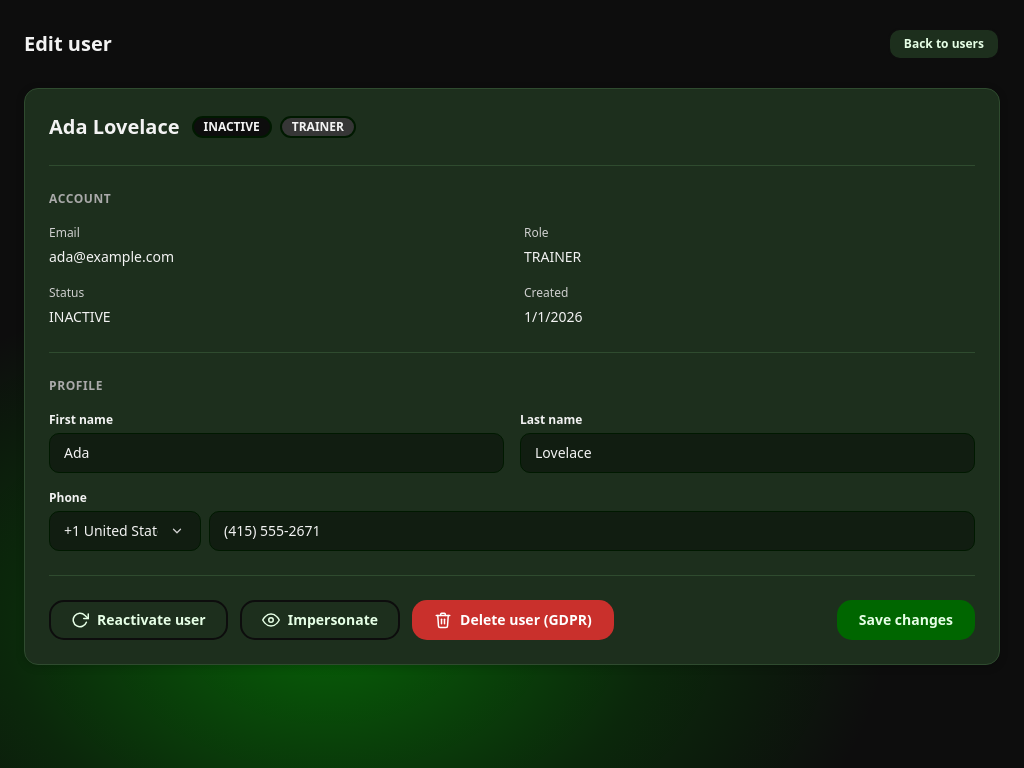
Test: UserDetailPage › opens DeactivateConfirmModal in "reactivate" mode for an INACTIVE user
This screenshot has width=1024, height=768.
Expected: the heading "Ada Lovelace" is shown, [49,113,180,141]
Step 1. Click the button "Reactivate user" → (138, 620), box [49,600,228,640]
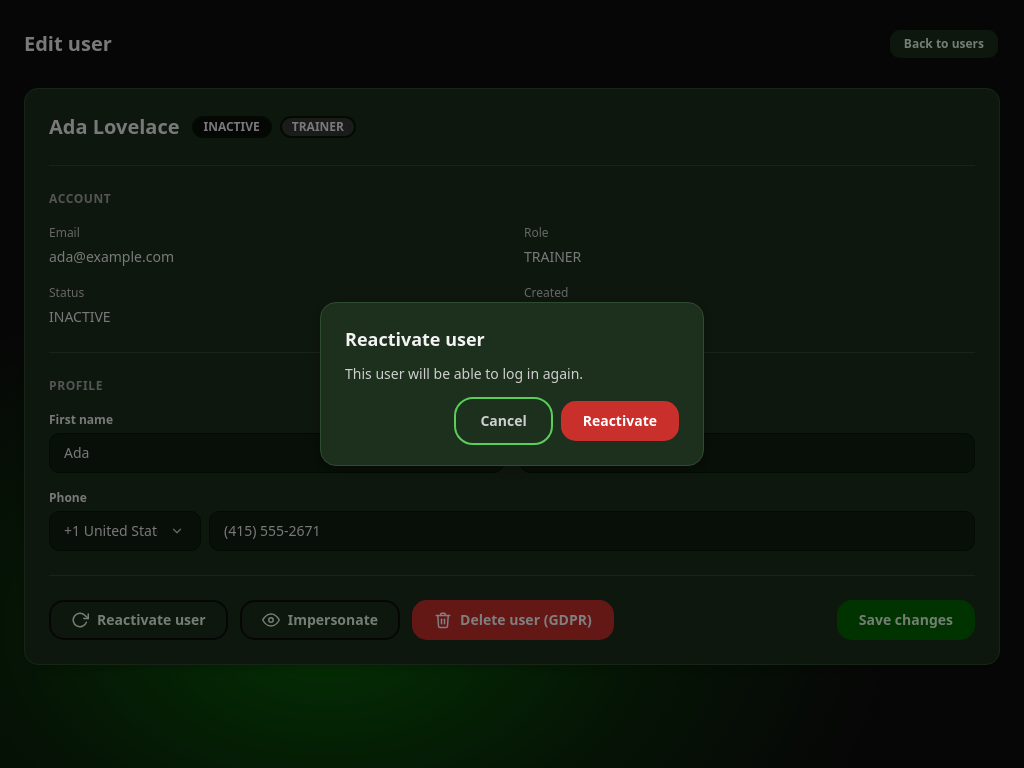
Expected: the dialog "Reactivate user" is shown, [320,302,704,466]
